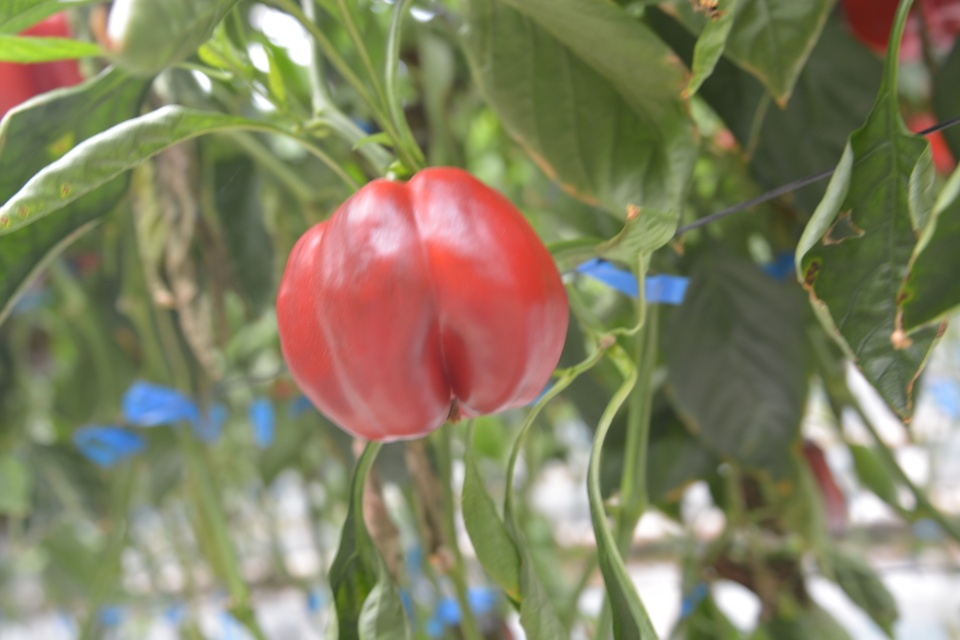fruit: (272, 163, 573, 446), (0, 8, 87, 120), (835, 0, 960, 66)
